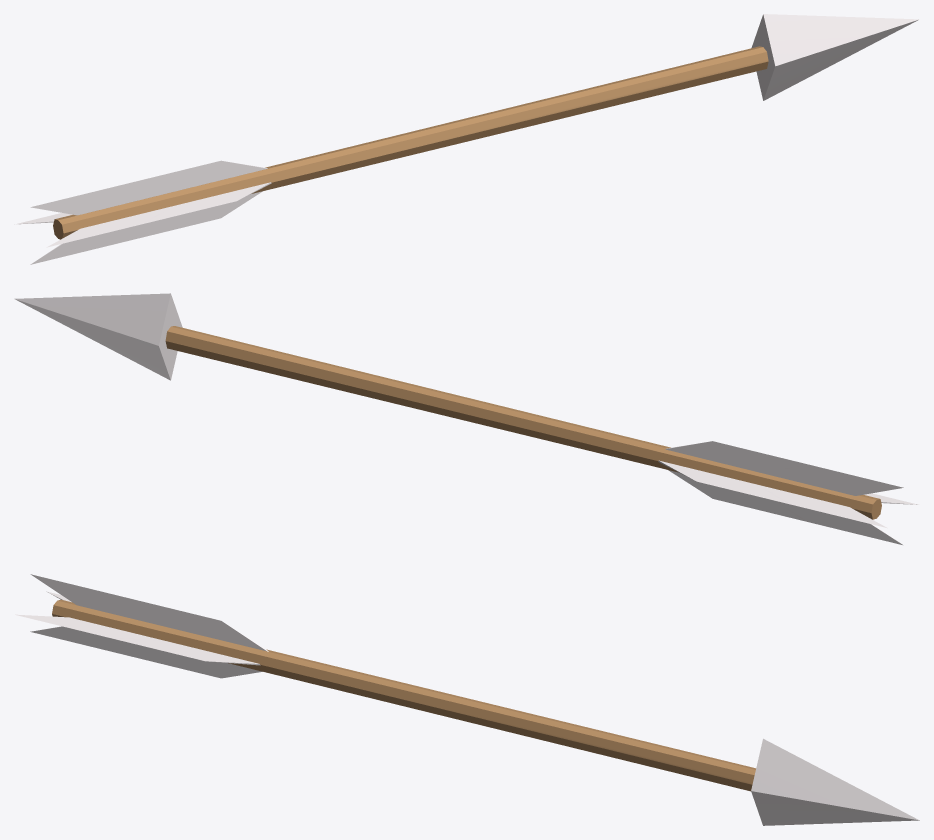
File: arrow.fbx
3 views of the same model, one above another, from view 1: azimuth 30°, elevation 25°; view 2: azimuth 150°, elevation 25°; view 3: azimuth 330°, elevation 25° (orthographic).
Visible parts, largest first — view 1: Arrow.001; view 2: Arrow.001; view 3: Arrow.001.
Part boxes in pixels (x1,y1,x2,y2): Arrow.001: [14, 14, 919, 264]; Arrow.001: [14, 293, 918, 545]; Arrow.001: [15, 574, 919, 825].
Size of the model in its own units: 368 by 34.49 by 22.79.
